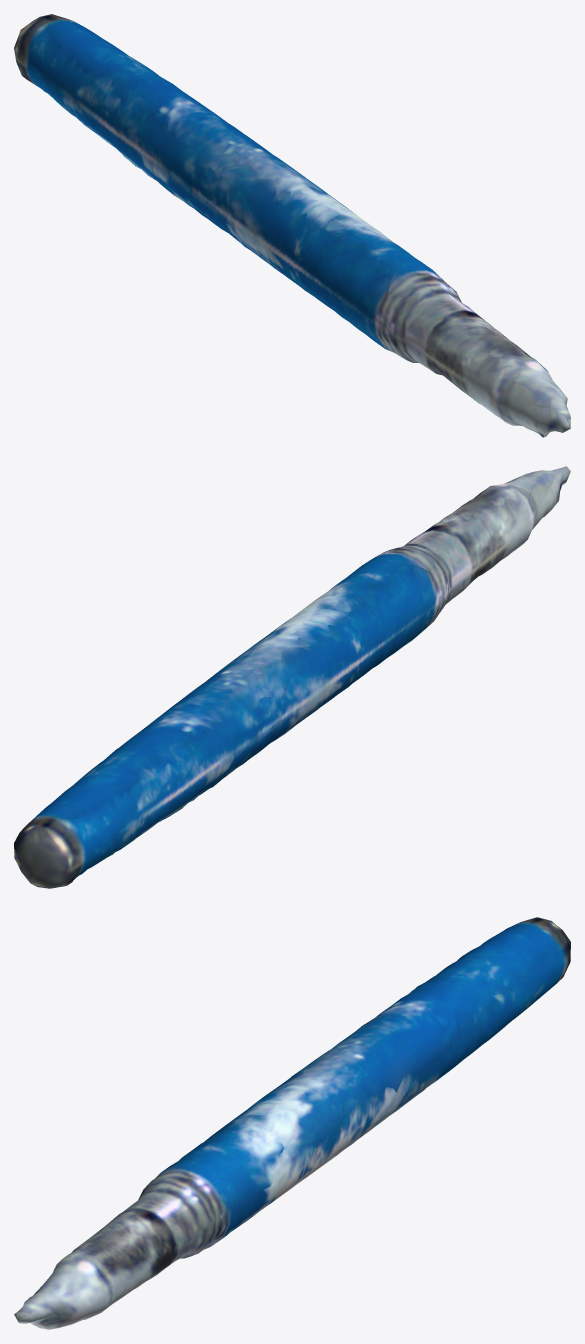
The model's file is scan_align.obj.
3 views of the same model, one above another, from view 1: azimuth 30°, elevation 25°; view 2: azimuth 150°, elevation 25°; view 3: azimuth 330°, elevation 25° (orthographic). The views are drawn at different scales.
Size of the model in its own units: 0.00997 by 0.0101 by 0.1158.
Materials: 1 (1 with a texture image).
